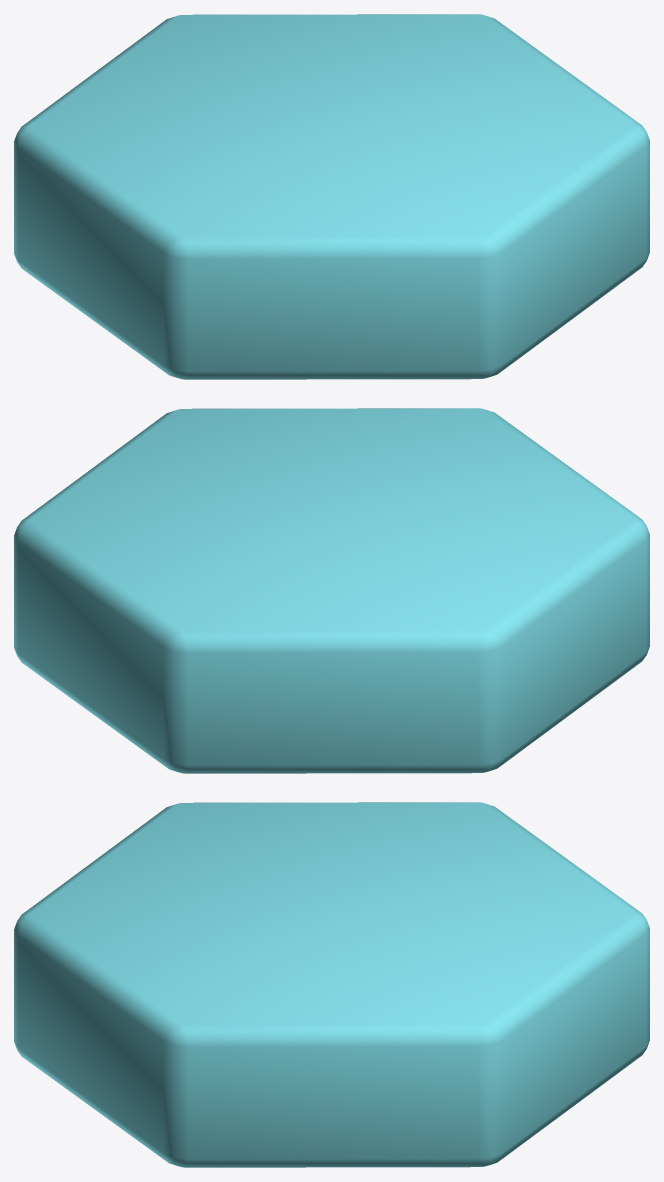
File: blueTile.fbx
3 renders of one model, top to bottom at view 1: azimuth 30°, elevation 25°; view 2: azimuth 150°, elevation 25°; view 3: azimuth 270°, elevation 25°, orthographic.
Visible parts, largest first — view 1: waterTile; view 2: waterTile; view 3: waterTile.
Part boxes in pixels (left/top/right/bottom): waterTile: left=14, top=14, right=649, bottom=379; waterTile: left=14, top=408, right=649, bottom=773; waterTile: left=14, top=802, right=649, bottom=1167.
Bounding box in the file's own units: 1.01 × 0.2828 × 1.15.
